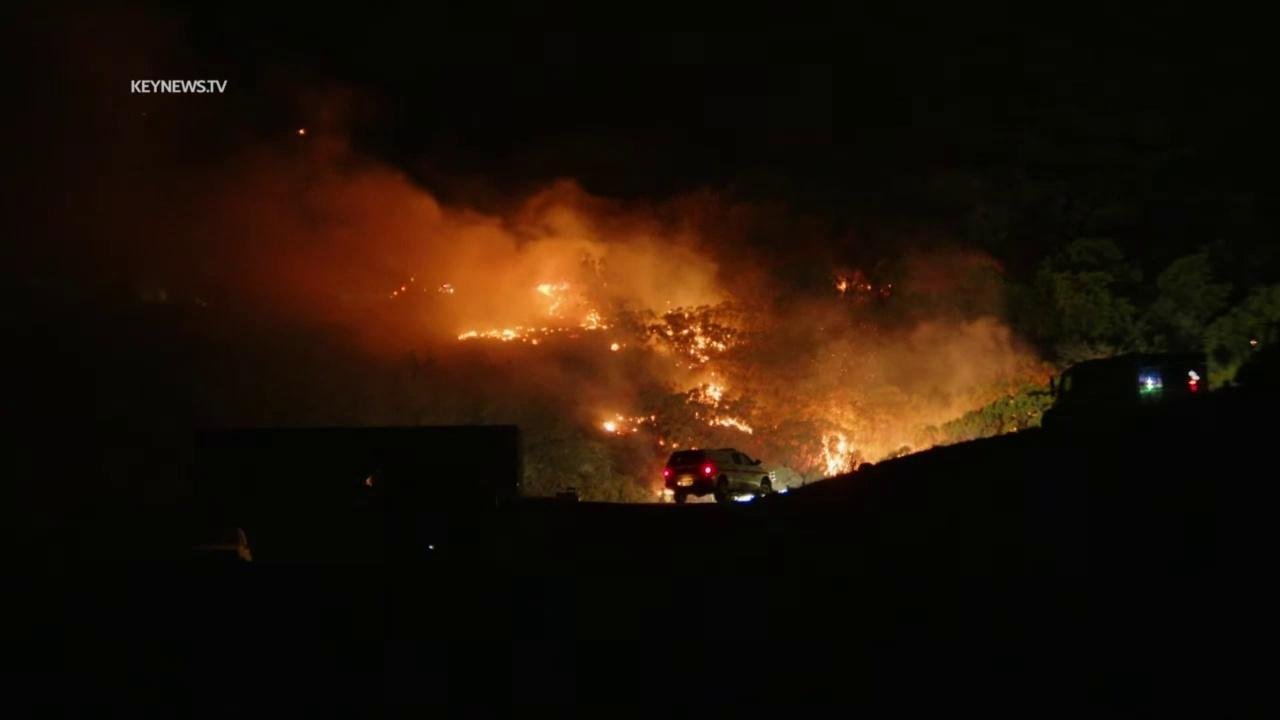fire: (678, 321, 732, 369), (816, 427, 856, 478), (601, 412, 659, 435), (685, 381, 731, 410), (536, 280, 571, 317), (707, 413, 754, 436), (459, 325, 521, 341), (578, 308, 608, 332), (436, 281, 456, 297), (835, 279, 848, 293), (609, 340, 622, 352), (666, 325, 674, 337), (657, 439, 667, 448), (670, 440, 680, 449), (531, 338, 541, 347), (297, 129, 306, 136), (866, 284, 873, 292), (527, 327, 537, 332), (400, 286, 407, 292), (409, 276, 416, 282), (690, 447, 700, 451), (391, 291, 398, 296), (522, 338, 528, 343), (550, 329, 555, 334), (557, 328, 563, 332)
smoke: (69, 10, 1061, 480)
